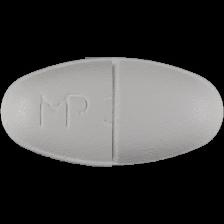63629-4094: (0, 0, 224, 224)
